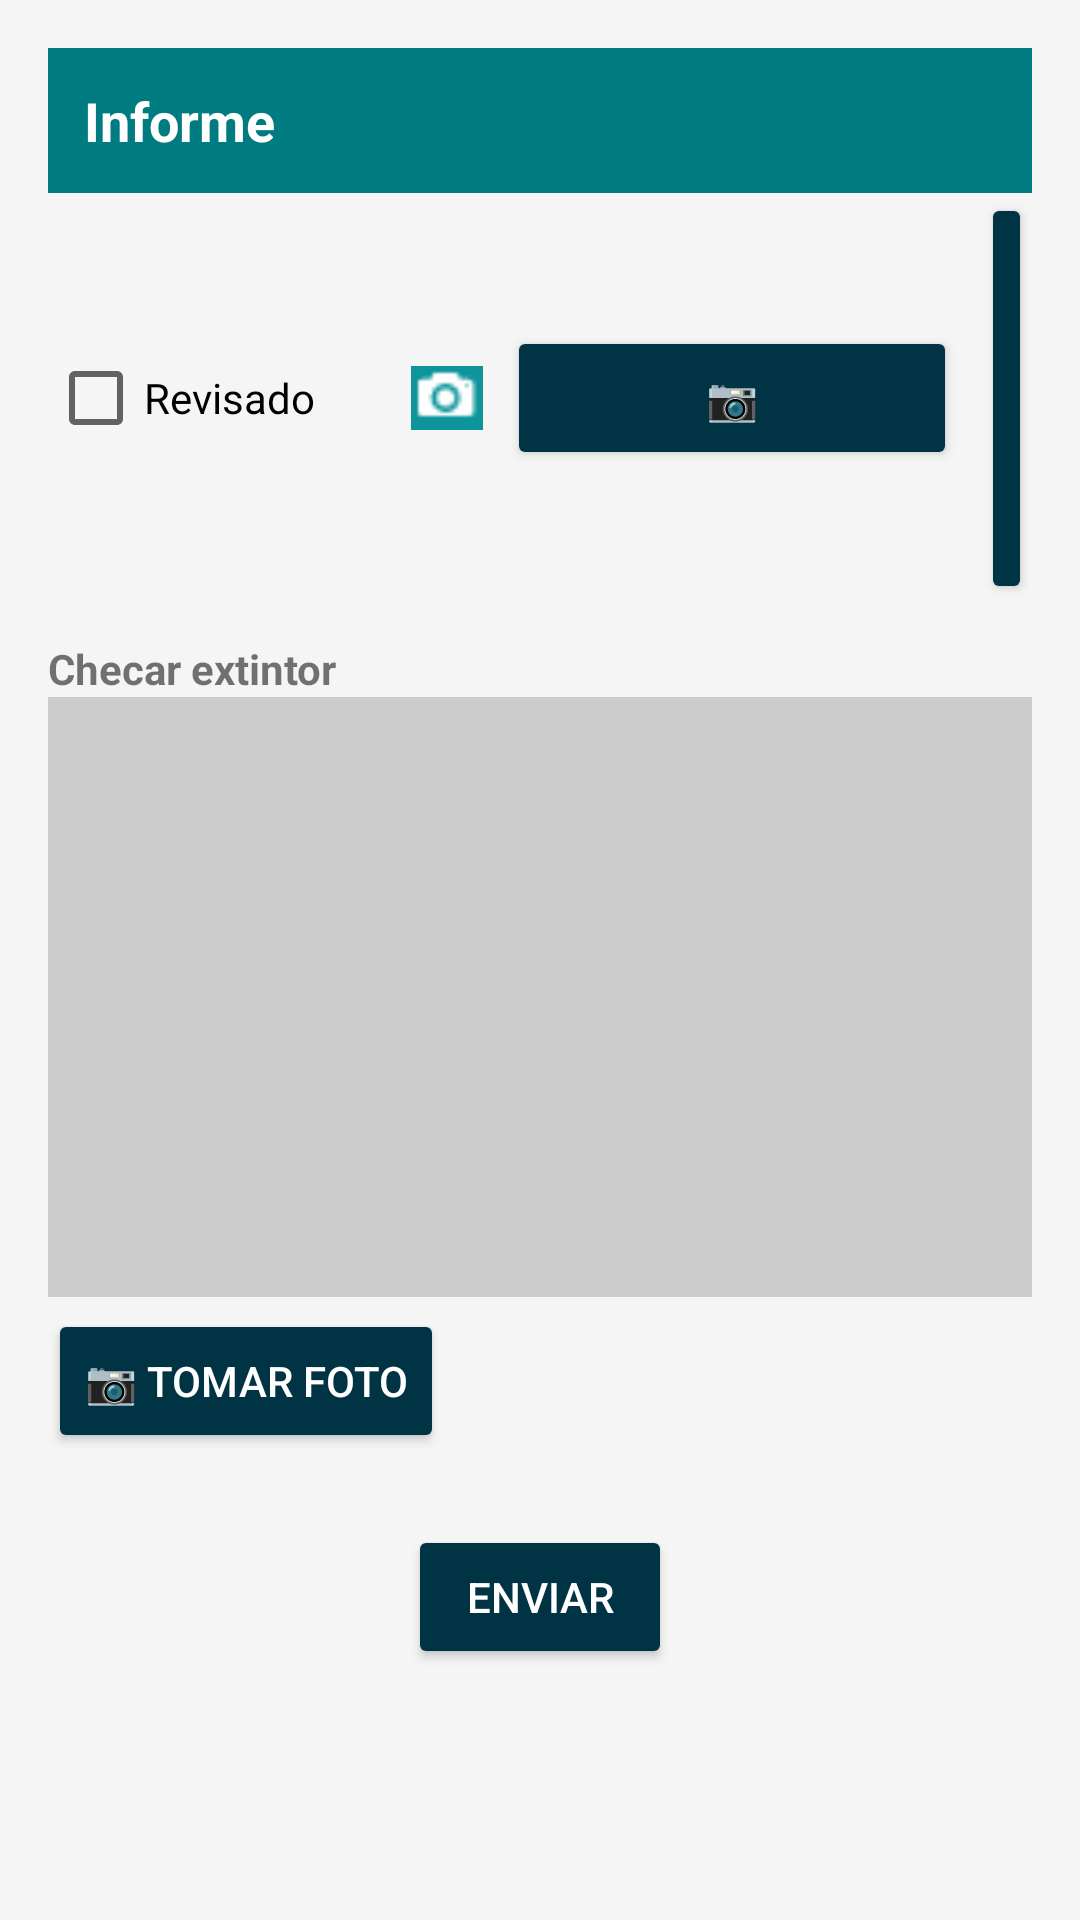

Named icons in this screenshot (1080 × 1920) and their bounding boxes, (x1, y1, x2, y2):
camera: (411, 366, 483, 430)
